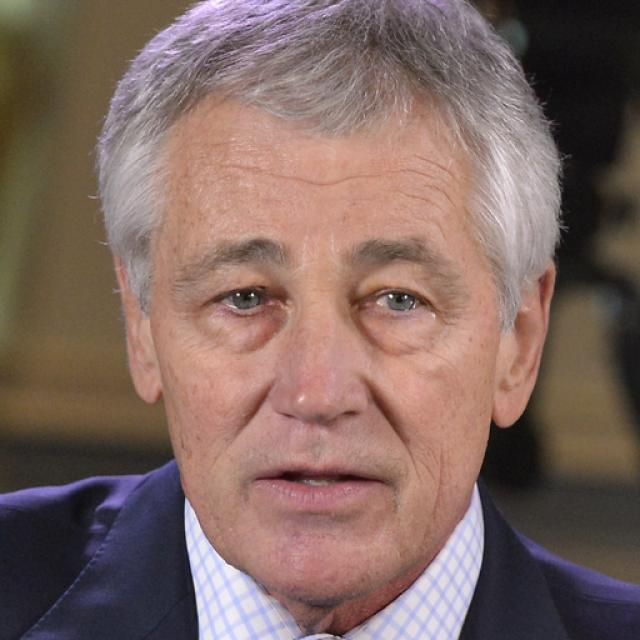Wrinkle: (374, 387, 422, 486), (228, 157, 386, 187), (226, 383, 267, 445), (394, 186, 452, 217), (417, 153, 454, 181)
